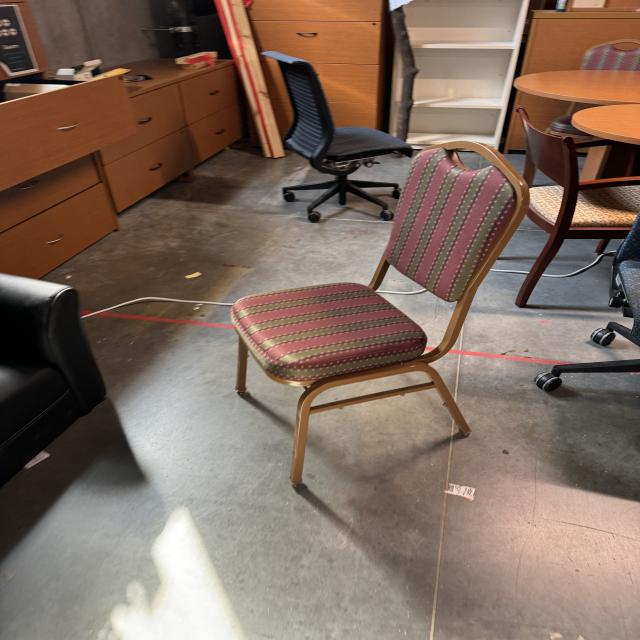chair: (218, 132, 531, 492)
